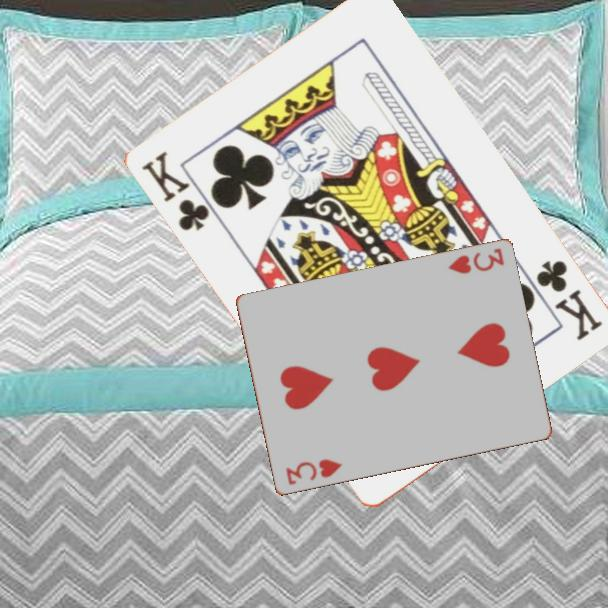c13: (138, 147, 214, 235), (533, 256, 606, 344)
h03: (282, 456, 345, 488), (444, 245, 507, 277)
